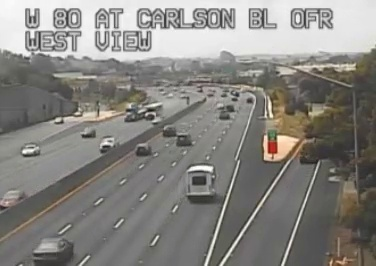bus: (186, 165, 215, 198)
car: (33, 238, 74, 261), (176, 133, 190, 147), (135, 143, 150, 156)
